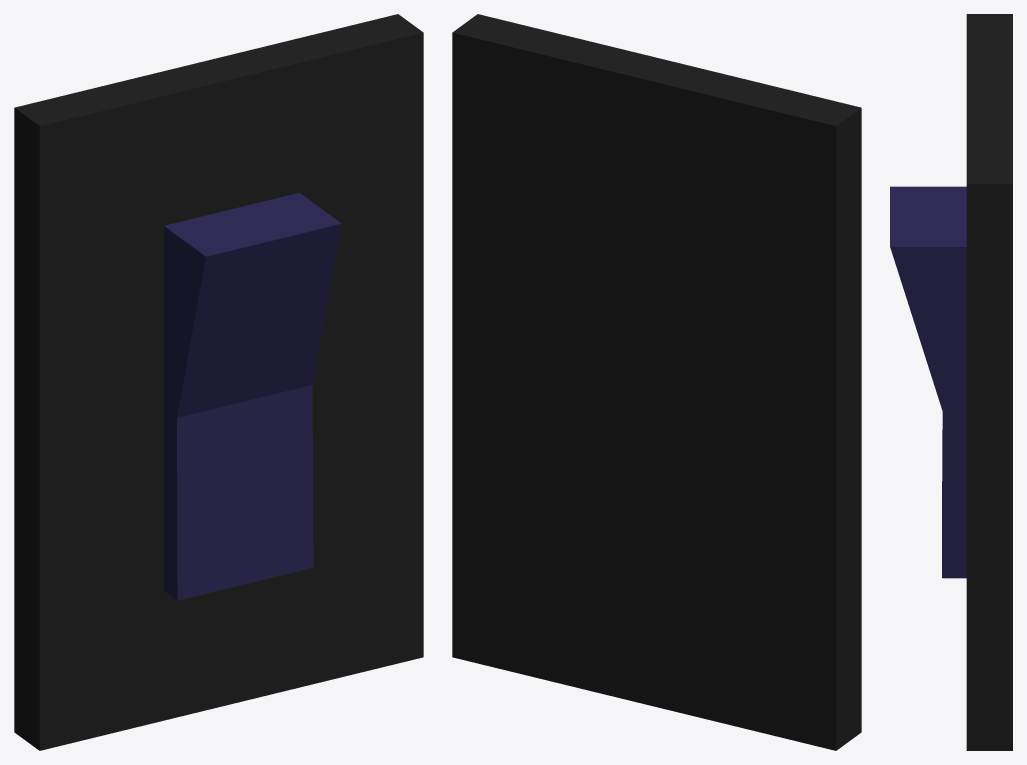
Rendered from light switch 1.fbx.
3 renders of one model, left to right at view 1: azimuth 30°, elevation 25°; view 2: azimuth 150°, elevation 25°; view 3: azimuth 270°, elevation 25°, orthographic. The views are drawn at different scales.
Visible parts, largest first — view 1: light switch; view 2: light switch; view 3: light switch.
Part boxes in pixels (bbox=[...]): light switch: bbox=[14, 14, 423, 750]; light switch: bbox=[452, 14, 861, 750]; light switch: bbox=[890, 14, 1012, 750].
Size of the model in its own units: 200 by 311 by 61.07.
